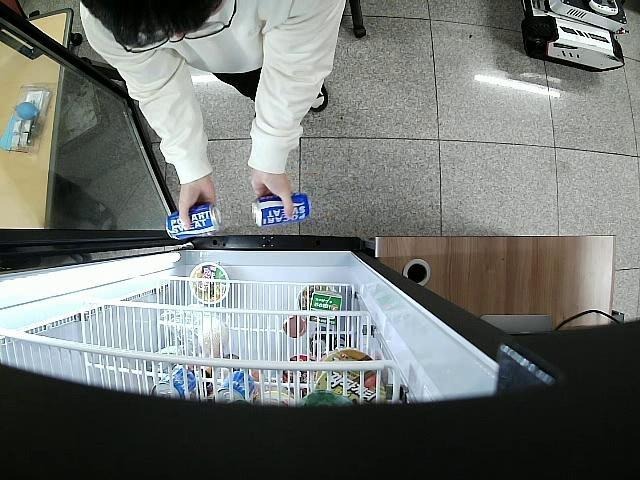13_pocariSweat: (252, 192, 310, 226), (168, 204, 222, 238)
